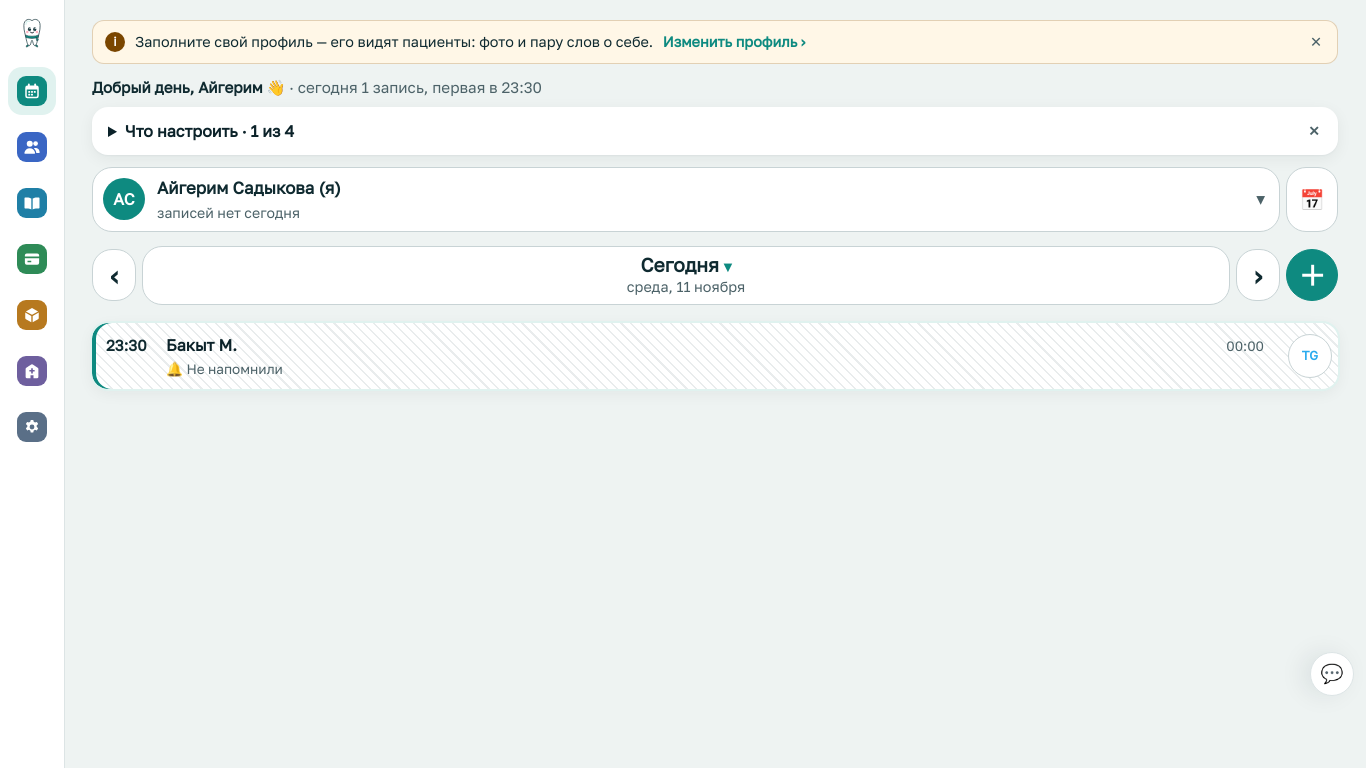
Test: телефон: быстрое «TG» — «✓ отправлено» вместо кнопки, второй раз не отправить
The width and height of the screenshot is (1366, 768).
Click the button with aria-label "Напомнить в Telegram: Бакыт М." at (1310, 356), box 1288,334 -> 1332,378
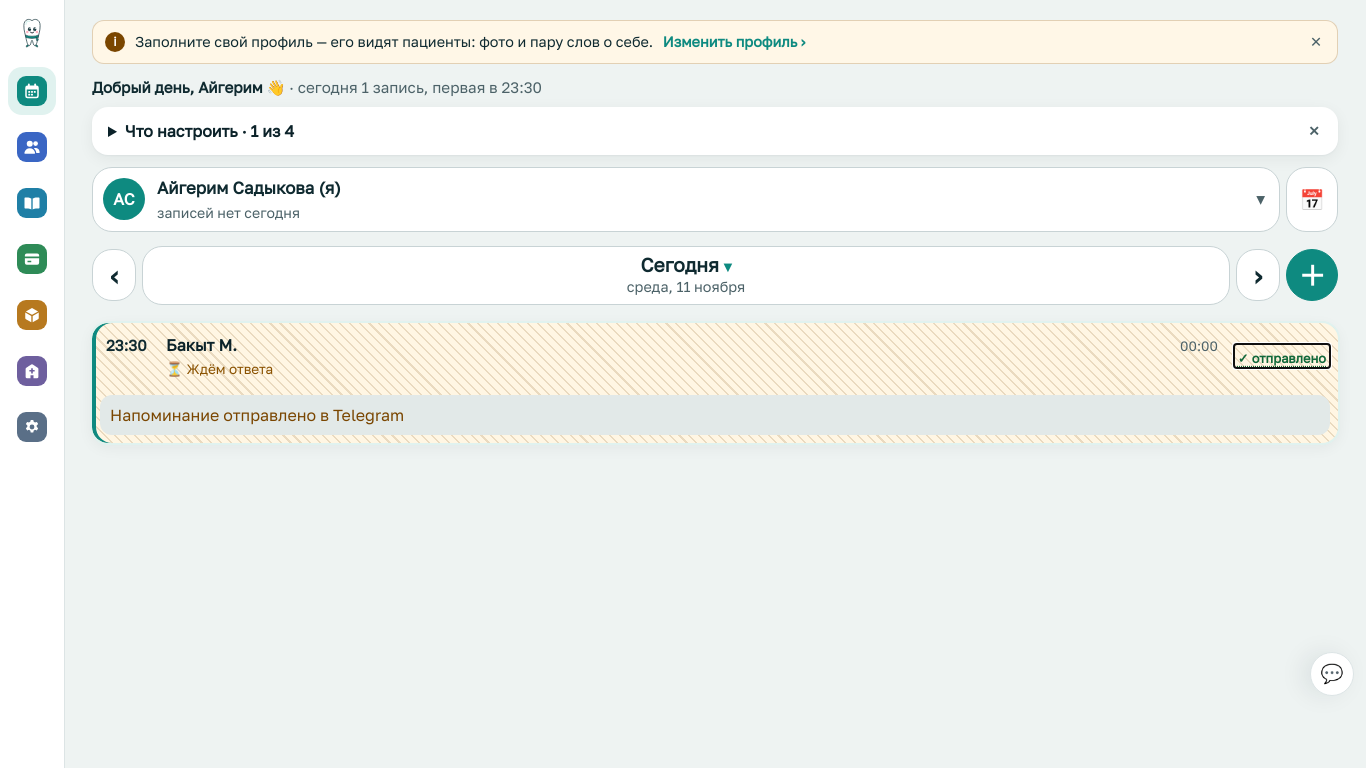
Expected: the button with aria-label "Напоминание отправлено: Бакыт М." reads "✓ отправлено", 1234,344 -> 1330,368
